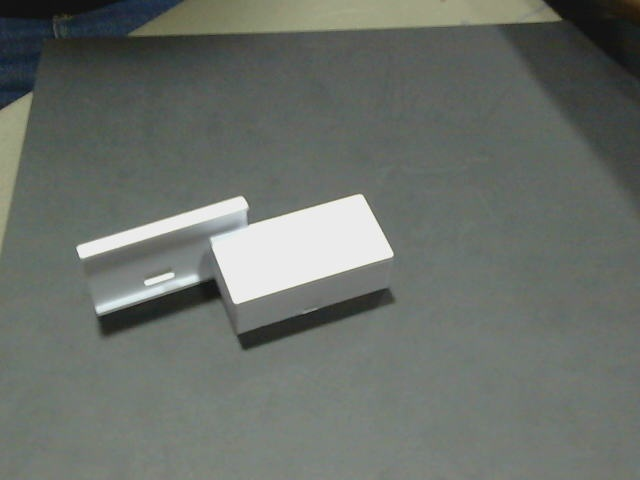enclosure_defective: (77, 194, 393, 304)
